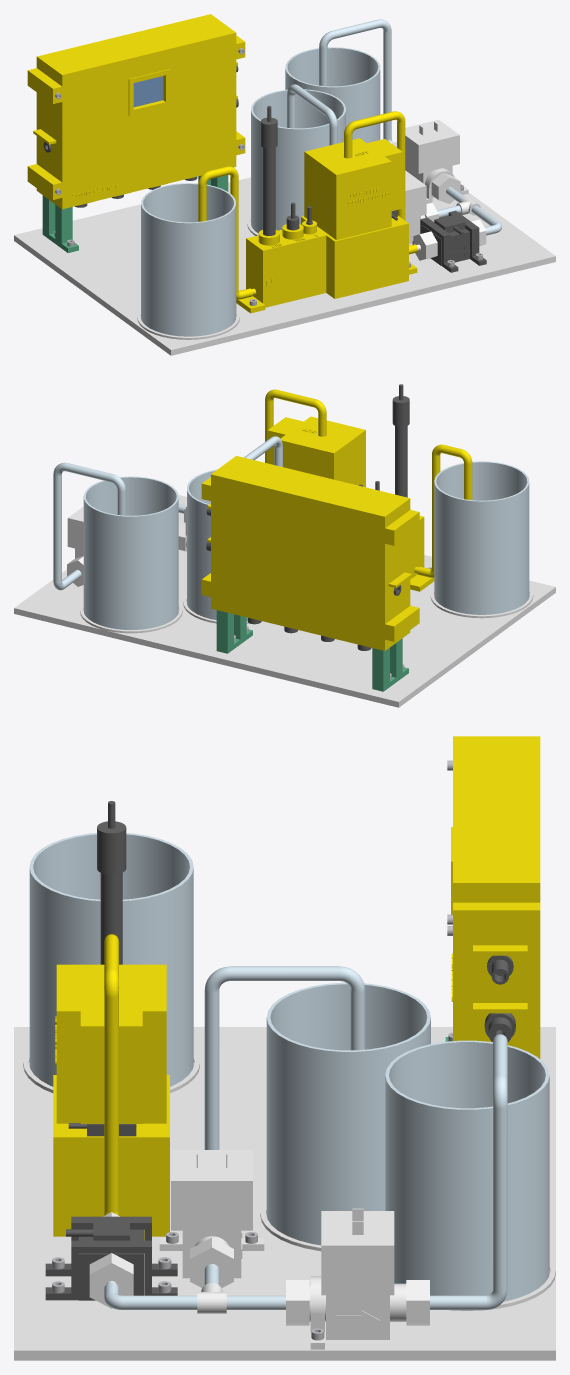
The model's file is bench_final.glb.
3 views of the same model, one above another, from view 1: azimuth 30°, elevation 25°; view 2: azimuth 150°, elevation 25°; view 3: azimuth 270°, elevation 25° (orthographic). The views are drawn at different scales.
Parts seen in each view (by area): view 1: NAUO44, NAUO1, NAUO2, NAUO69, NAUO70, NAUO43, NAUO4, NAUO3, NAUO14, NAUO30, NAUO90, NAUO42 (+11 smaller); view 2: NAUO43, NAUO1, NAUO2, NAUO3, NAUO70, NAUO4, NAUO30, NAUO90, NAUO41, NAUO42, NAUO69, NAUO44 (+5 smaller); view 3: NAUO1, NAUO3, NAUO4, NAUO2, NAUO43, NAUO70, NAUO69, NAUO14, NAUO15, NAUO32, NAUO30, NAUO42 (+13 smaller).
Part boxes in pixels (bbox=[...]): NAUO44: bbox=[51, 31, 245, 209]; NAUO1: bbox=[14, 141, 555, 355]; NAUO2: bbox=[141, 183, 236, 336]; NAUO69: bbox=[236, 215, 417, 313]; NAUO70: bbox=[304, 138, 402, 240]; NAUO43: bbox=[27, 14, 242, 207]; NAUO4: bbox=[251, 89, 345, 233]; NAUO3: bbox=[285, 47, 380, 142]; NAUO14: bbox=[405, 119, 459, 197]; NAUO30: bbox=[319, 19, 396, 147]; NAUO90: bbox=[261, 106, 277, 235]; NAUO42: bbox=[344, 111, 417, 254]; NAUO43: bbox=[201, 457, 417, 650]; NAUO1: bbox=[14, 495, 555, 707]; NAUO2: bbox=[434, 461, 529, 614]; NAUO3: bbox=[83, 476, 178, 629]; NAUO70: bbox=[267, 416, 365, 487]; NAUO4: bbox=[187, 469, 247, 620]; NAUO30: bbox=[53, 462, 125, 590]; NAUO90: bbox=[392, 384, 409, 497]; NAUO41: bbox=[417, 444, 472, 577]; NAUO42: bbox=[265, 389, 326, 463]; NAUO69: bbox=[410, 509, 434, 591]; NAUO44: bbox=[234, 456, 419, 633]; NAUO1: bbox=[14, 1027, 555, 1360]; NAUO3: bbox=[385, 1040, 549, 1301]; NAUO4: bbox=[266, 982, 430, 1245]; NAUO2: bbox=[29, 833, 193, 1086]; NAUO43: bbox=[460, 736, 540, 1058]; NAUO70: bbox=[55, 964, 166, 1123]; NAUO69: bbox=[53, 1075, 169, 1240]; NAUO14: bbox=[309, 1208, 406, 1339]; NAUO15: bbox=[171, 1150, 252, 1278]; NAUO32: bbox=[204, 966, 365, 1149]; NAUO30: bbox=[430, 1034, 507, 1309]; NAUO42: bbox=[104, 934, 118, 1215].
Size of the model in its own units: 0.42 by 0.206 by 0.297.
